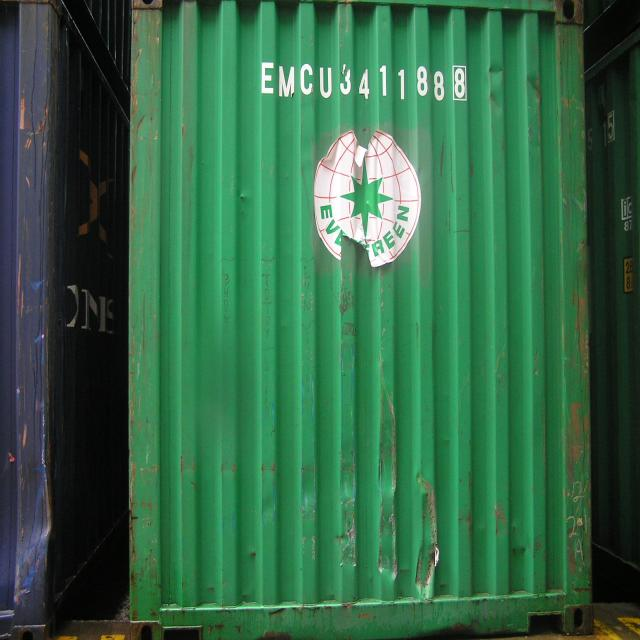dent: (414, 543, 437, 596), (301, 468, 320, 514), (340, 462, 357, 511), (378, 457, 398, 496), (260, 496, 278, 523), (381, 559, 400, 584), (381, 518, 396, 539), (336, 534, 355, 549), (488, 64, 506, 78)
